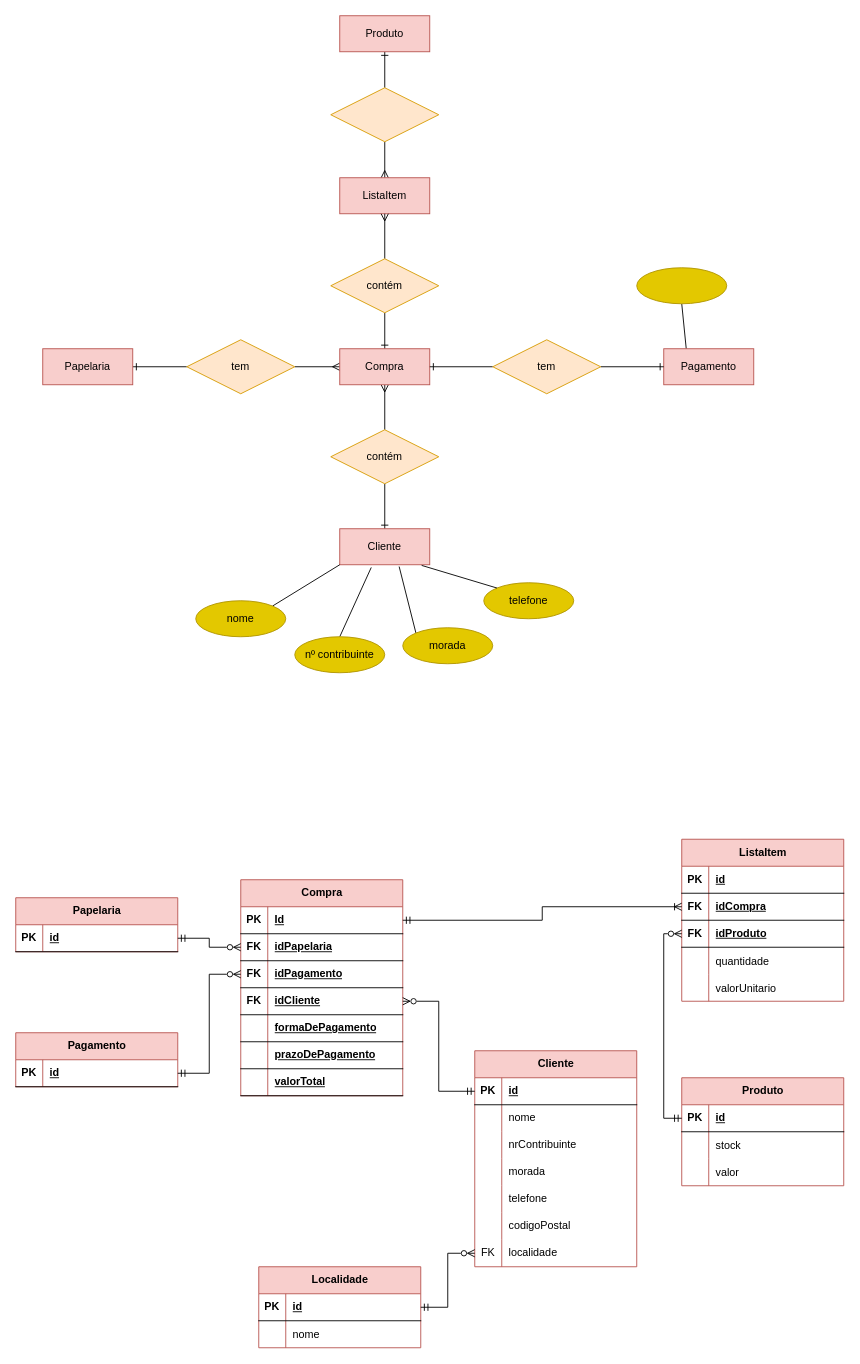
Some shapes in this 860 by 1364 pixel diagram are drawn without their labels. Here are the shapes that lost their labels. From the top down, the centre of each, then its label:
At (x=384, y=114): "de".
At (x=681, y=285): "tipoPagamento".
